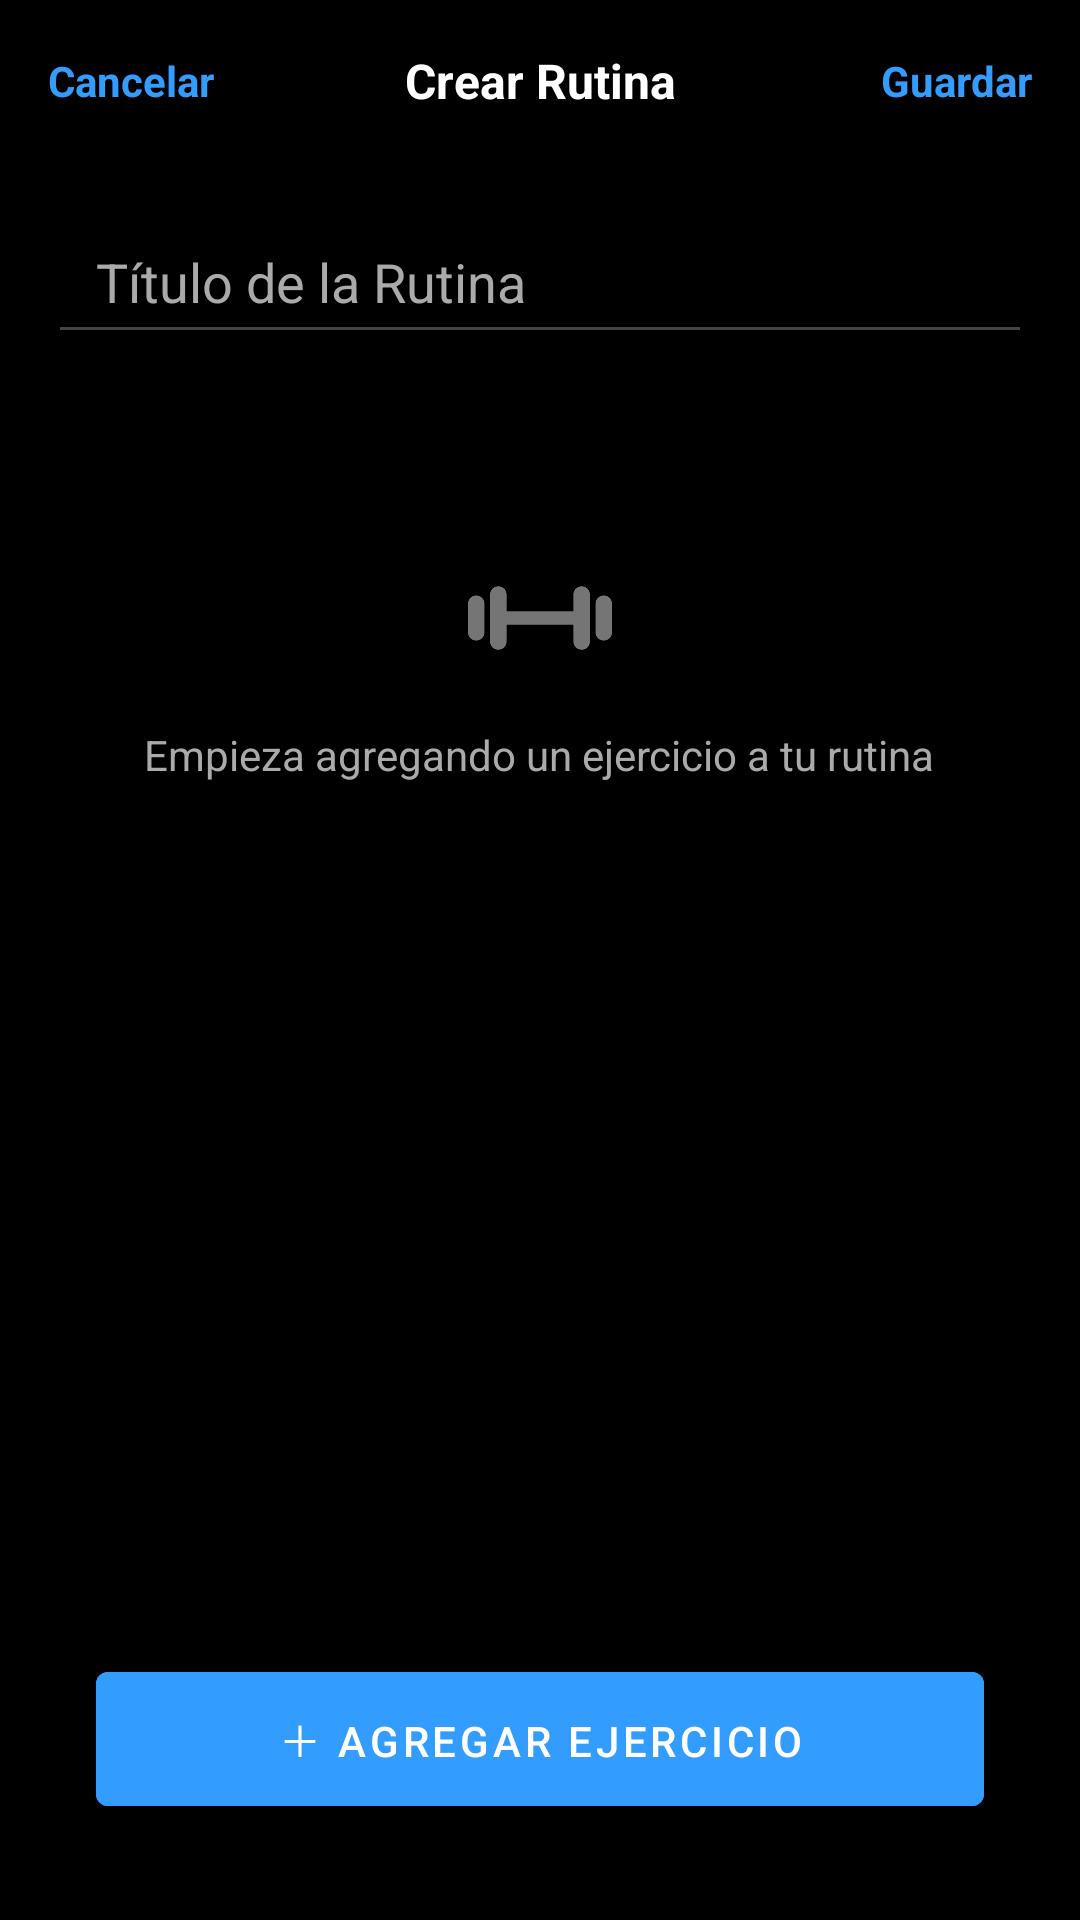

Locate icon controls on the screen. Image size 1080w x 1920h, boxes as (left=x1, top=y1, right=x2, bottom=y2).
entrenamiento: (left=468, top=586, right=612, bottom=650)
